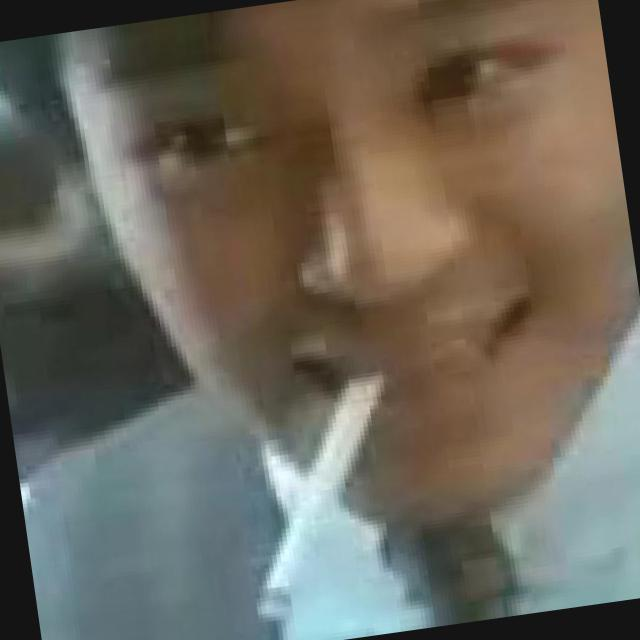cigarette: (204, 360, 433, 634)
